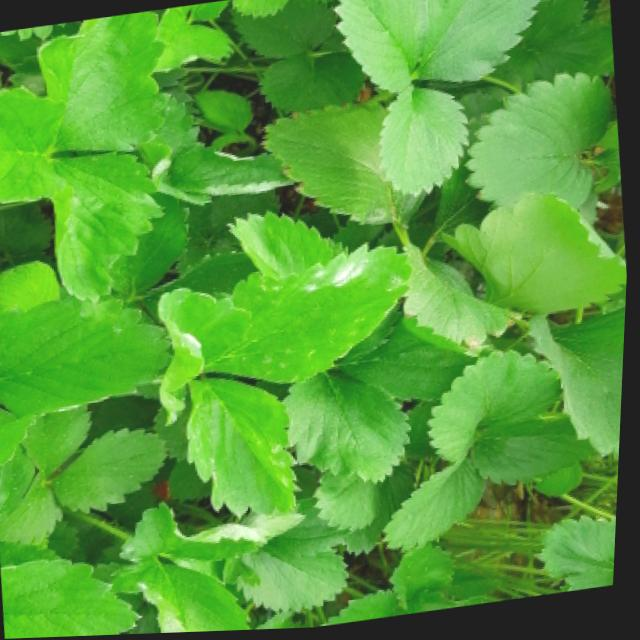Powdery Mildew Leaf: (202, 245, 417, 386), (261, 100, 428, 230), (157, 287, 255, 430), (118, 500, 274, 568), (142, 142, 298, 208), (114, 564, 257, 635), (0, 83, 66, 205)
